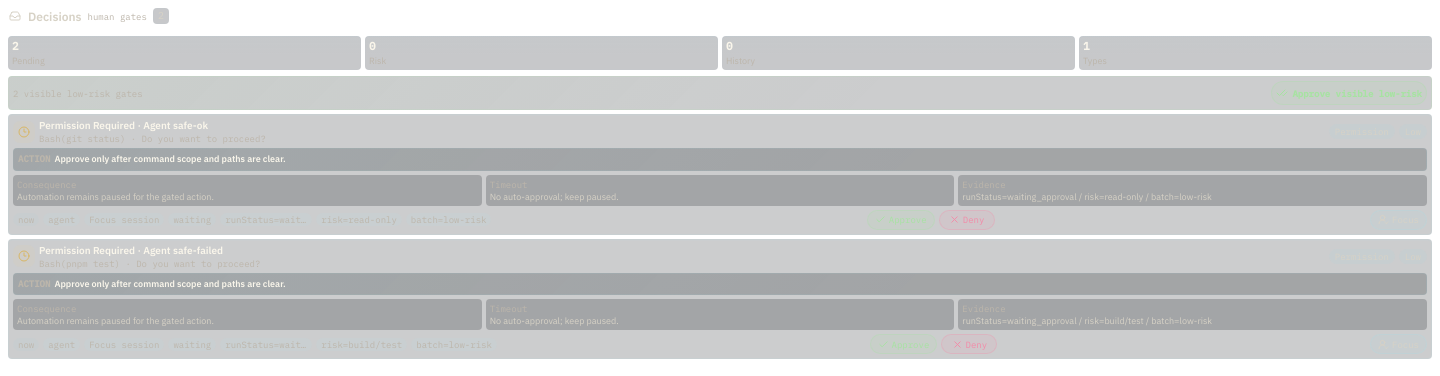
Scenario: DecisionInboxPanel › keeps failed batch items retryable while successful items remain latched
The image size is (1440, 376).
Click the button with aria-label "Approve 2 visible low-risk gates".
click(1349, 93)  # box [1271,81,1427,105]
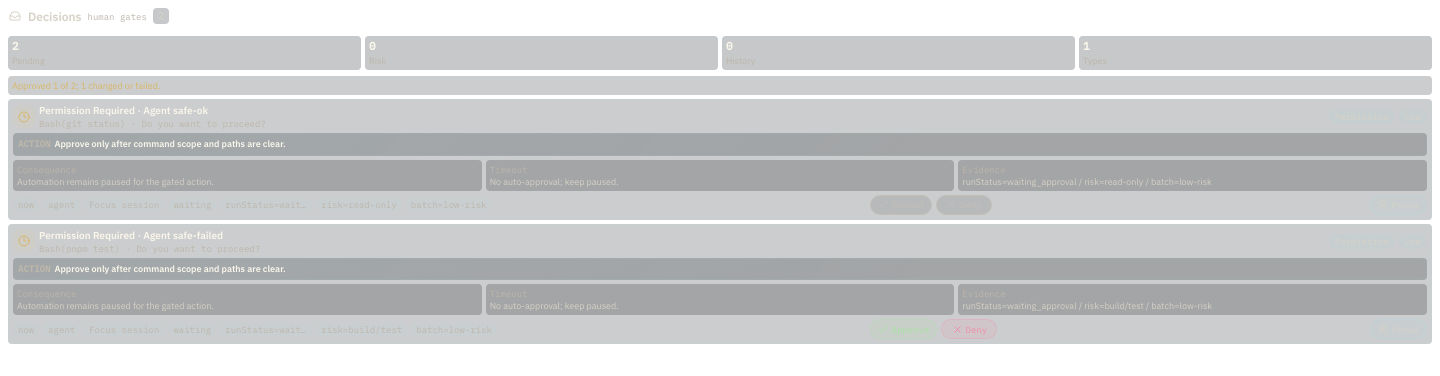
Expected: the button with aria-label "Approve Permission Required · Agent safe-failed" is enabled, [870,319,937,339]
Expected: the text "Approved 1 of 2; 1 changed or failed." is shown, [8,76,1432,95]
